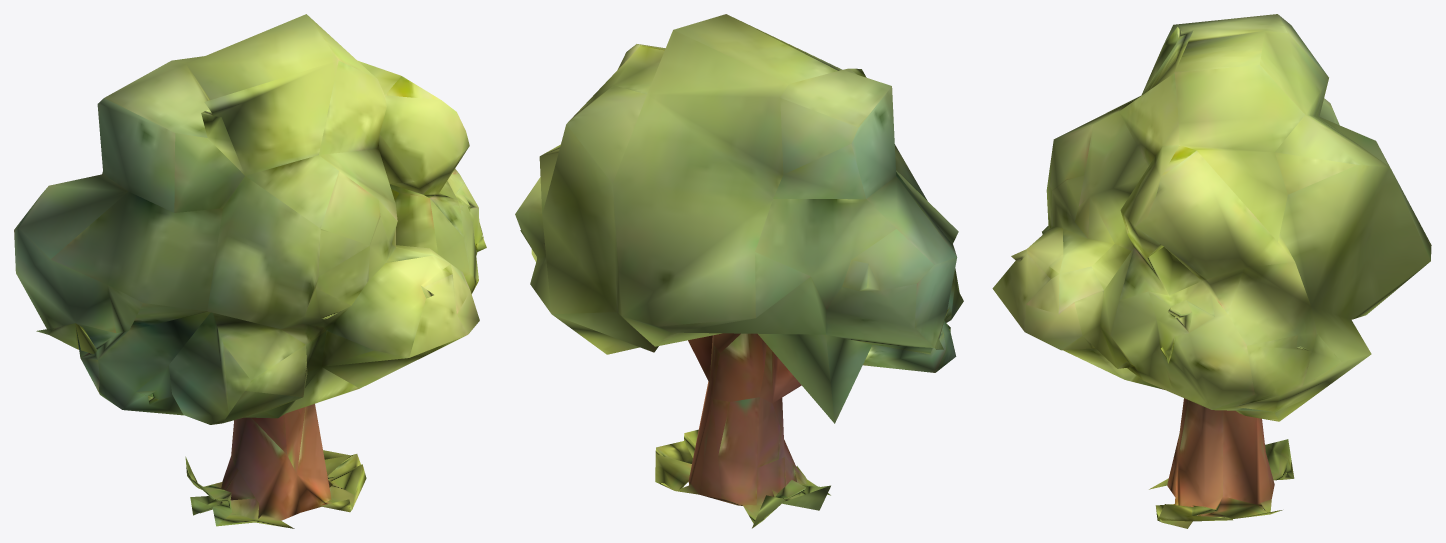
File: tree_round.glb
The picture shows the model from 3 angles, left to right: view 1: azimuth 30°, elevation 25°; view 2: azimuth 150°, elevation 25°; view 3: azimuth 270°, elevation 25°; orthographic projection.
Visible parts, largest first — view 1: tripo_node_b11da65b-4bc0-4bfd-bdb7-00bef6604a92; view 2: tripo_node_b11da65b-4bc0-4bfd-bdb7-00bef6604a92; view 3: tripo_node_b11da65b-4bc0-4bfd-bdb7-00bef6604a92.
Boxes of the visible parts, bbox=[...] form: tripo_node_b11da65b-4bc0-4bfd-bdb7-00bef6604a92: bbox=[14, 14, 486, 528]; tripo_node_b11da65b-4bc0-4bfd-bdb7-00bef6604a92: bbox=[515, 14, 963, 528]; tripo_node_b11da65b-4bc0-4bfd-bdb7-00bef6604a92: bbox=[992, 14, 1431, 528].
Size of the model in its own units: 0.8911 by 0.9291 by 0.8031.
1 material, 1 textured.
